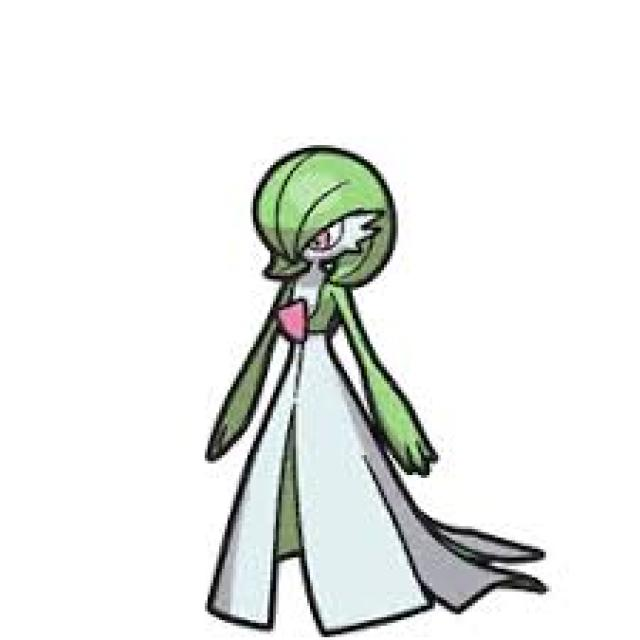gardevoir: (203, 140, 543, 636)
